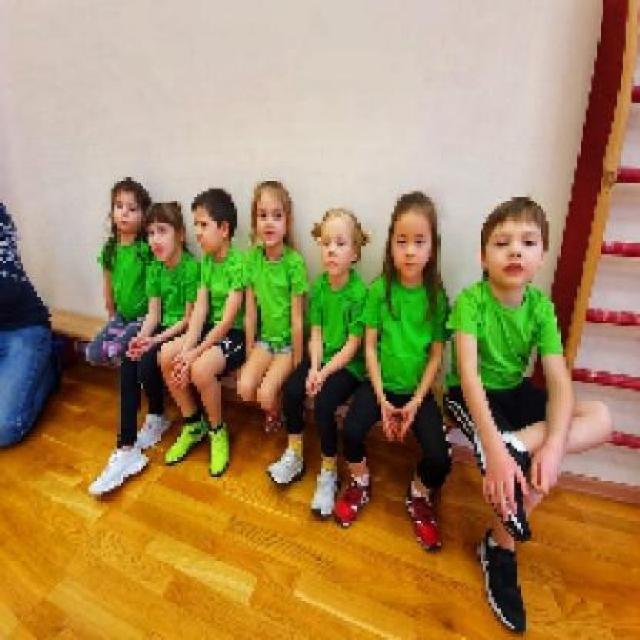child: (444, 197, 616, 637), (332, 193, 452, 550), (267, 207, 376, 519), (85, 174, 169, 492), (157, 188, 234, 478), (235, 178, 311, 444), (87, 173, 153, 367)
